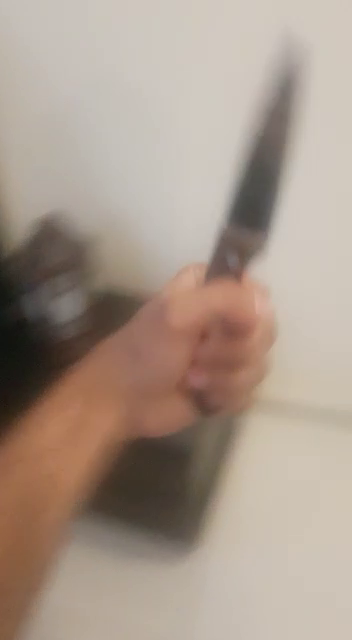knife: (191, 27, 316, 435)
